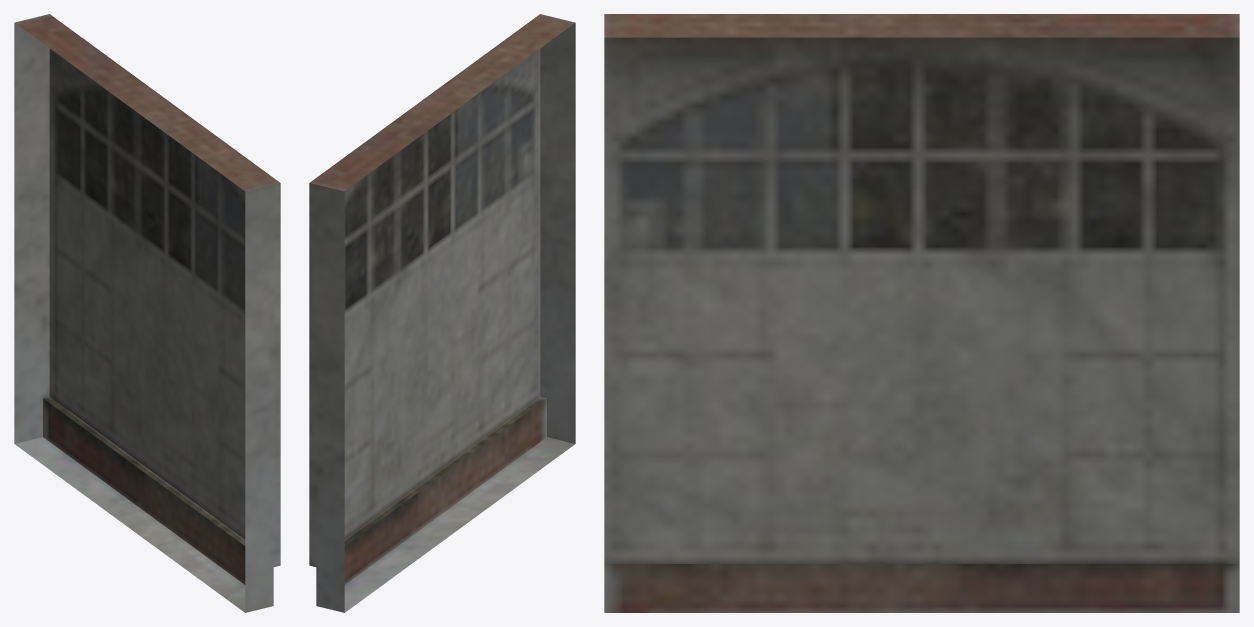
The model's file is ShedGates.FBX.
The picture shows the model from 3 angles, left to right: view 1: azimuth 30°, elevation 25°; view 2: azimuth 150°, elevation 25°; view 3: azimuth 270°, elevation 25°; orthographic projection. The views are drawn at different scales.
Visible parts, largest first — view 1: ShedGates; view 2: ShedGates; view 3: ShedGates.
Boxes of the visible parts, x1,y1,x2,y2 form: ShedGates: [14, 14, 280, 612]; ShedGates: [309, 14, 575, 612]; ShedGates: [604, 14, 1239, 612].
Bounding box in the file's own units: 42.65 × 487 × 484.
